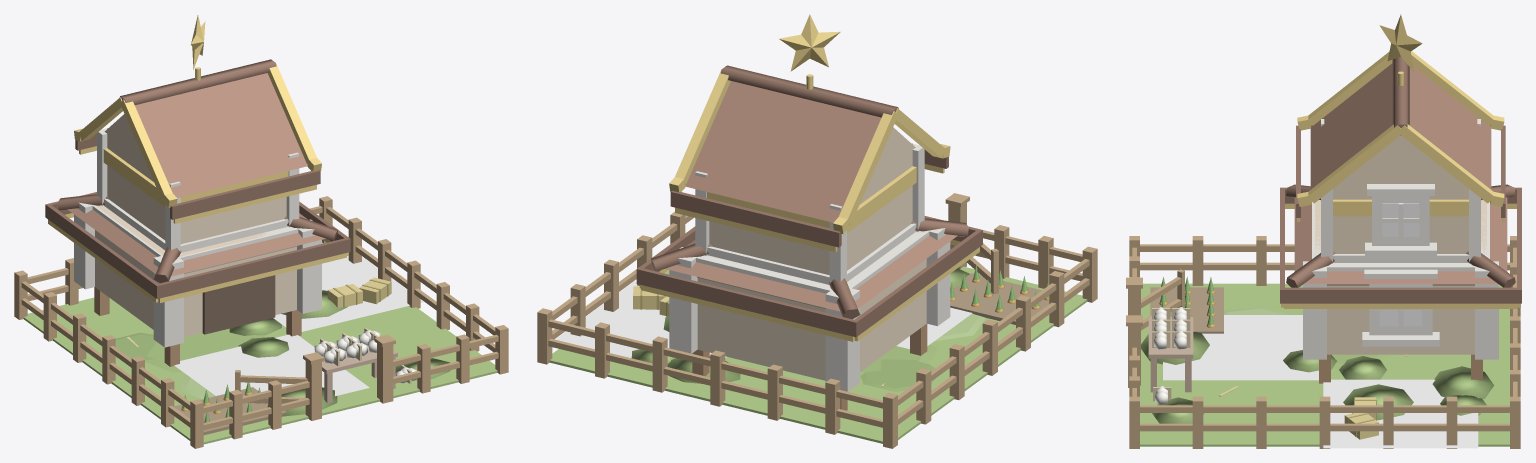
File: rabbit_hutch_2.glb
3 views of the same model, side by side, from view 1: azimuth 30°, elevation 25°; view 2: azimuth 150°, elevation 25°; view 3: azimuth 270°, elevation 25° (orthographic). The views are drawn at different scales.
Visible parts, largest first — view 1: body5, rabbit_hutch_2, body, body3, body2, body4; view 2: body5, rabbit_hutch_2; view 3: body5, rabbit_hutch_2, body4, body3, body2.
Boxes of the visible parts, x1,y1,x2,y2 form: body5: (14, 15, 508, 448); rabbit_hutch_2: (174, 252, 423, 396); body: (202, 275, 275, 334); body3: (336, 333, 367, 360); body2: (314, 338, 345, 366); body4: (358, 328, 416, 383); body5: (537, 14, 1097, 448); rabbit_hutch_2: (555, 281, 972, 358); body5: (1126, 14, 1521, 448); rabbit_hutch_2: (1163, 315, 1478, 448); body4: (1152, 330, 1190, 404); body3: (1152, 318, 1190, 331); body2: (1152, 307, 1190, 319).
Bounding box in the file's own units: 1.8 × 1.72 × 1.79.
